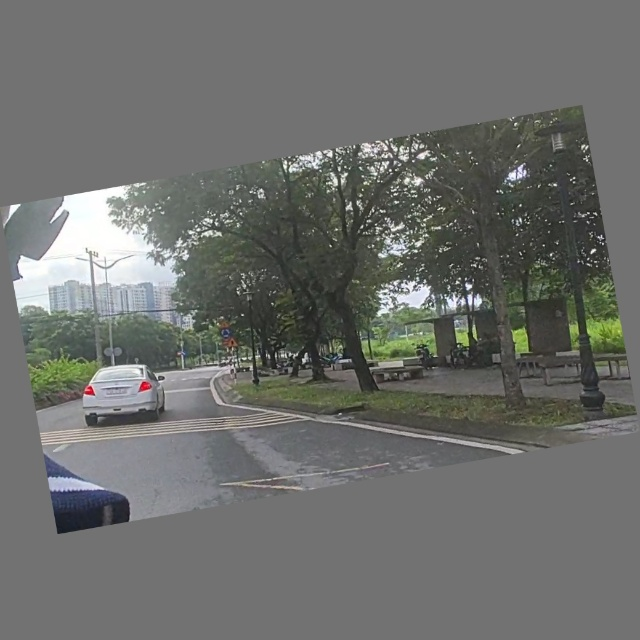R.302a: (181, 350, 188, 358)
R.303: (221, 329, 232, 339)
W.207: (227, 336, 239, 350)
